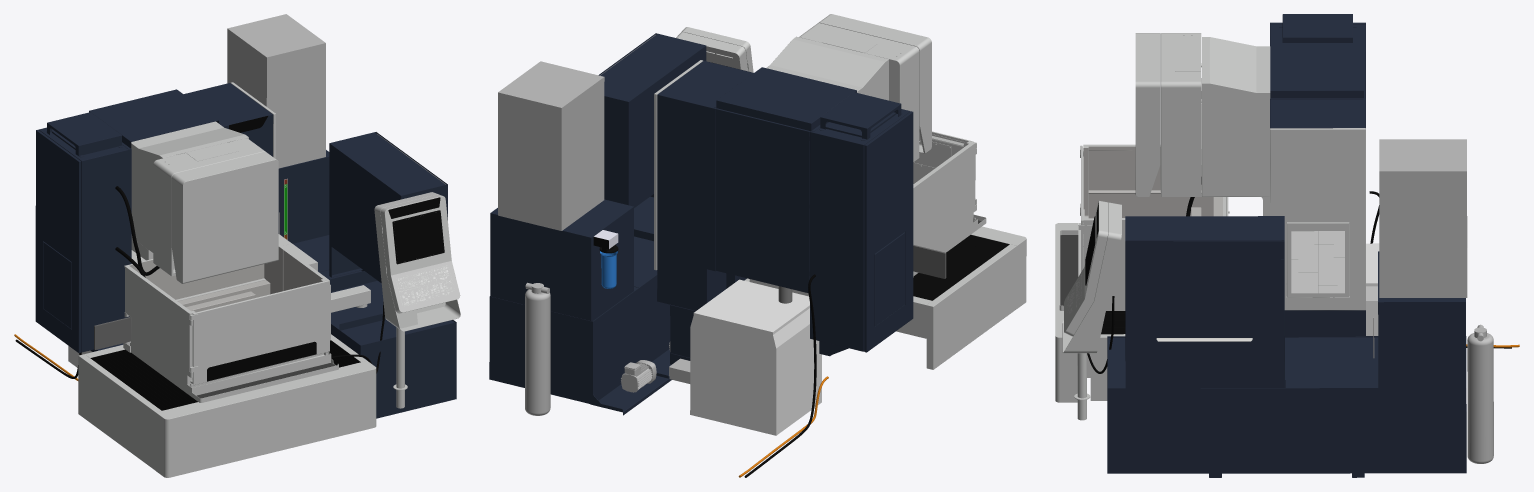
3 renders of one model, left to right at view 1: azimuth 30°, elevation 25°; view 2: azimuth 150°, elevation 25°; view 3: azimuth 270°, elevation 25°, orthographic. The views are drawn at different scales.
Visible parts, largest first — view 1: Source_Solid_066, Source_Solid_055, Source_Solid_042, Source_Solid_050, Source_Solid_036, Source_Solid_002, Source_Solid_025, SOLID, Source_Solid_027, Source_Solid_068, Source_Solid_103, Source_Solid_049 (+22 smaller); view 2: Source_Solid_092, Source_Solid_042, Source_Solid_033, Source_Solid_036, Source_Solid_016, Source_Solid_025, Source_Solid_049, Source_Solid_050, Source_Solid_027, Source_Solid_068, SOLID, Source_Solid_032 (+22 smaller); view 3: Source_Solid_036, Source_Solid_050, Source_Solid_042, Source_Solid_020, Source_Solid_049, Source_Solid_064, Source_Solid_051, Source_Solid_032, SOLID_1, Source_Solid_016, Source_Solid_022, Source_Solid_055 (+15 smaller).
Part boxes in pixels (box(x1,y1,x2,y2)): Source_Solid_066: box(155, 361, 376, 477); Source_Solid_055: box(171, 151, 278, 283); Source_Solid_042: box(227, 14, 325, 168); Source_Solid_050: box(329, 132, 447, 282); Source_Solid_036: box(293, 235, 456, 418); Source_Solid_002: box(190, 280, 330, 386); Source_Solid_025: box(39, 127, 131, 352); SOLID: box(123, 243, 338, 402); Source_Solid_027: box(35, 129, 81, 352); Source_Solid_068: box(78, 354, 161, 470); Source_Solid_103: box(380, 194, 460, 313); Source_Solid_049: box(278, 150, 329, 243); Source_Solid_092: box(690, 279, 821, 435); Source_Solid_042: box(498, 61, 604, 230); Source_Solid_033: box(716, 108, 810, 293); Source_Solid_036: box(489, 194, 671, 415); Source_Solid_016: box(657, 61, 753, 310); Source_Solid_025: box(809, 109, 910, 351); Source_Solid_049: box(490, 199, 633, 321); Source_Solid_050: box(598, 33, 706, 207); Source_Solid_027: box(864, 111, 913, 352); Source_Solid_068: box(926, 244, 1016, 369); SOLID: box(913, 141, 986, 277); Source_Solid_032: box(714, 67, 856, 131); Source_Solid_036: box(1107, 336, 1466, 477); Source_Solid_050: box(1125, 216, 1284, 388); Source_Solid_042: box(1379, 139, 1467, 297); Source_Solid_020: box(1270, 128, 1365, 310); Source_Solid_049: box(1378, 251, 1465, 387); Source_Solid_064: box(1202, 75, 1270, 196); Source_Solid_051: box(1160, 33, 1201, 196); Source_Solid_032: box(1270, 43, 1363, 99); SOLID_1: box(1083, 146, 1222, 218); Source_Solid_016: box(1270, 98, 1365, 336); Source_Solid_022: box(1287, 222, 1349, 297); Source_Solid_055: box(1135, 33, 1160, 196).
Bounding box in the file's own units: 2.55 × 2.18 × 2.91.
